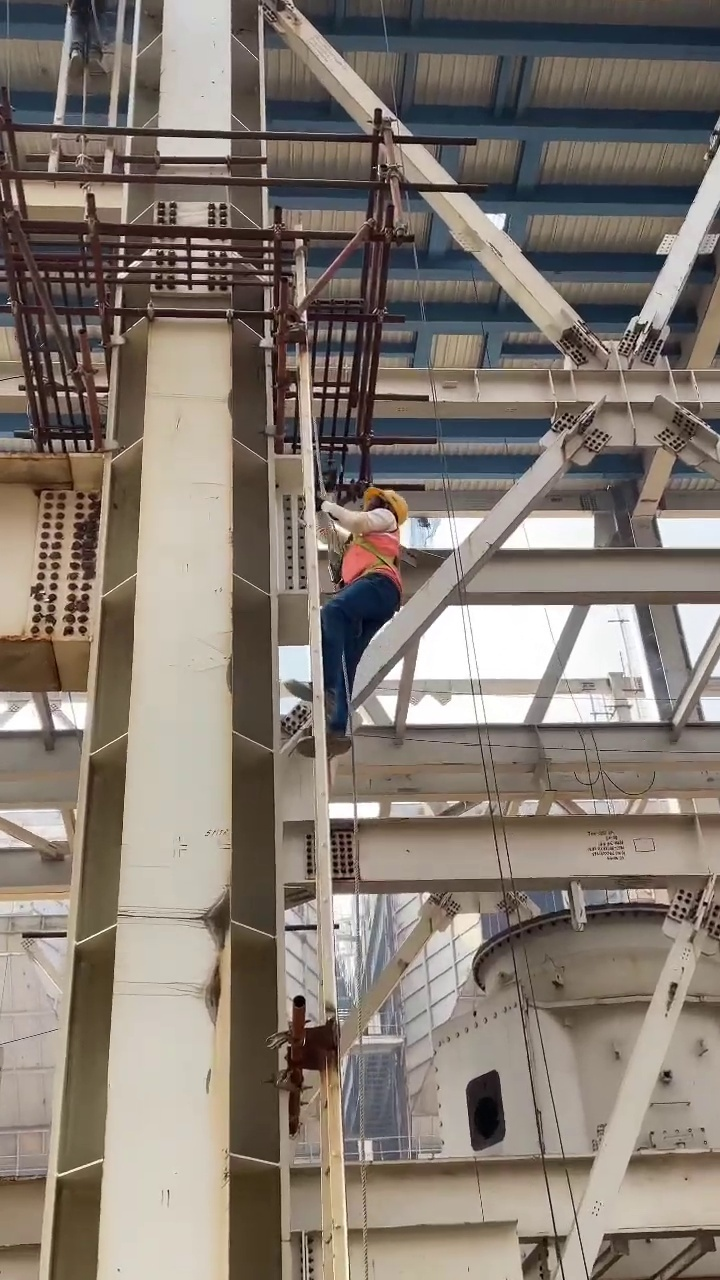Helmet: (366, 486, 407, 523)
Person: (286, 485, 408, 753)
Safety_Harness: (342, 528, 405, 586)
Safety_shoes: (284, 678, 335, 712), (295, 733, 350, 760), (66, 51, 83, 81), (87, 60, 108, 84)
